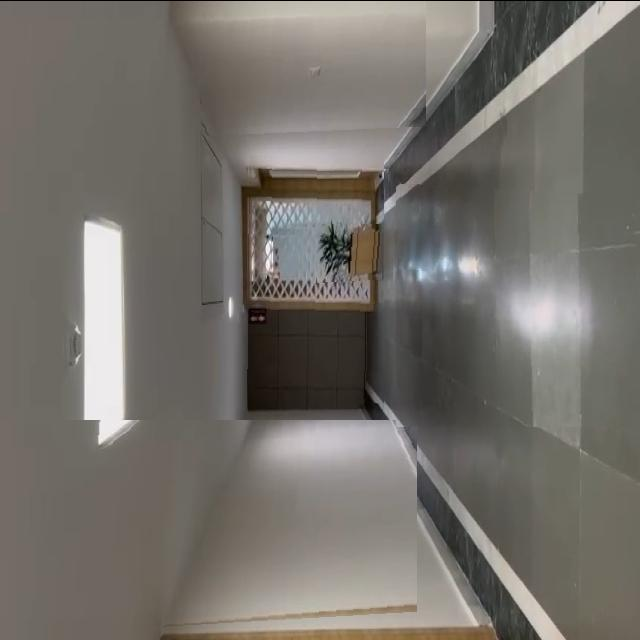door: (246, 155, 384, 402)
floor: (396, 182, 640, 426)
furniture: (316, 223, 382, 282)
wall: (23, 419, 417, 634), (5, 0, 426, 144)
